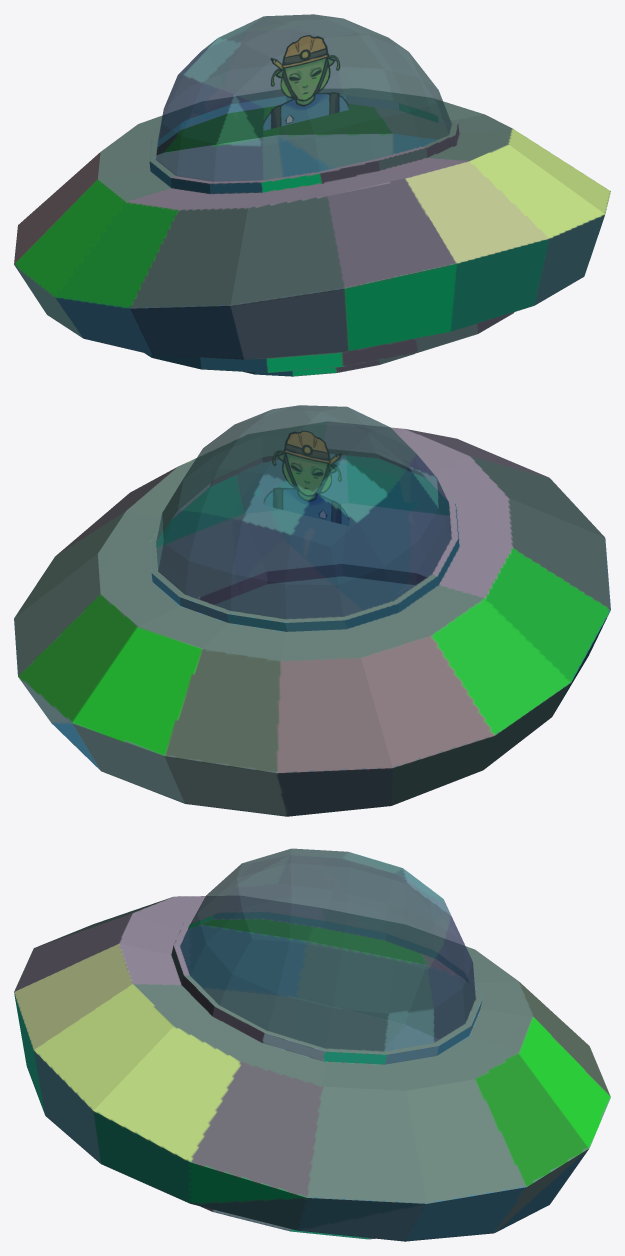
Rendered from ship_construction_new.glb.
The picture shows the model from 3 angles, top to bottom: view 1: azimuth 30°, elevation 25°; view 2: azimuth 150°, elevation 25°; view 3: azimuth 270°, elevation 25°; orthographic projection. The views are drawn at different scales.
Parts seen in each view (by area): view 1: ship_construction; view 2: ship_construction; view 3: ship_construction.
Part boxes in pixels (box(x1,y1,x2,y2)): ship_construction: box(14, 14, 610, 376); ship_construction: box(14, 405, 610, 816); ship_construction: box(14, 848, 610, 1241).
Bounding box in the file's own units: 2.19 × 1.31 × 2.15.
1 material, 1 textured.
